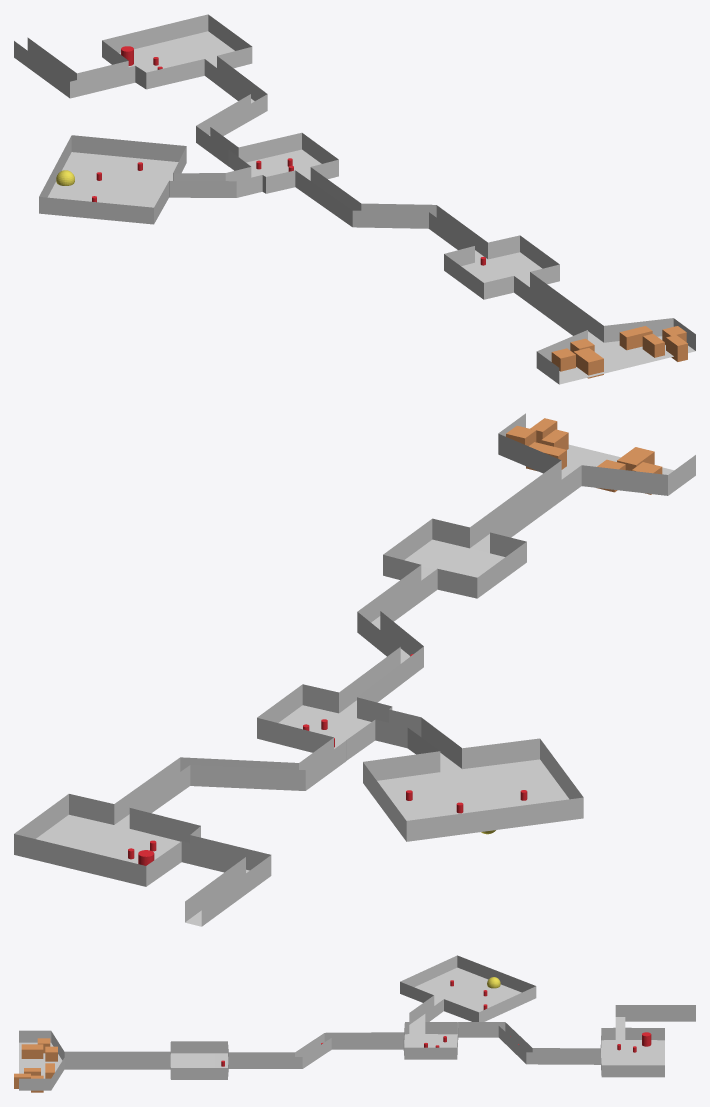
File: AxelDawig_GreyBox_Tutorial_BUSHIDO.fbx
The picture shows the model from 3 angles, top to bottom: view 1: azimuth 30°, elevation 25°; view 2: azimuth 150°, elevation 25°; view 3: azimuth 270°, elevation 25°; orthographic projection. The views are drawn at different scales.
Visible parts, largest first — view 1: Cube, Cube.003; view 2: Cube, Cube.003; view 3: Cube, Cube.003.
Boxes of the visible parts, <box> form: Cube: <box>14,14,695,384</box>; Cube.003: <box>551,326,687,378</box>; Cube: <box>14,413,695,926</box>; Cube.003: <box>506,418,662,494</box>; Cube: <box>19,955,695,1090</box>; Cube.003: <box>14,1038,57,1092</box>.
Size of the model in its own units: 34617 by 2145 by 80968.
